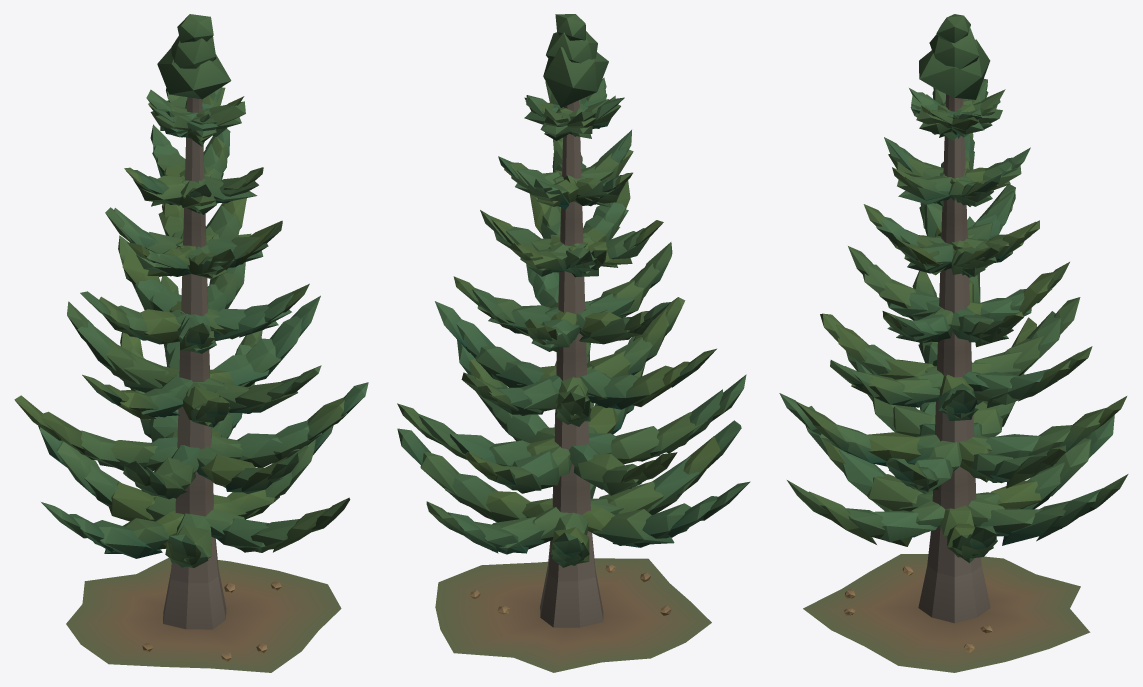
Rendered from timber_conifer_a.glb.
3 views of the same model, side by side, from view 1: azimuth 30°, elevation 25°; view 2: azimuth 150°, elevation 25°; view 3: azimuth 270°, elevation 25° (orthographic).
Visible parts, largest first — view 1: timber_conifer_a; view 2: timber_conifer_a; view 3: timber_conifer_a.
Part boxes in pixels (left/top/right/bottom): timber_conifer_a: left=14, top=14, right=368, bottom=672; timber_conifer_a: left=397, top=14, right=750, bottom=672; timber_conifer_a: left=779, top=14, right=1128, bottom=672.
Bounding box in the file's own units: 3.6 × 6.34 × 3.38.
